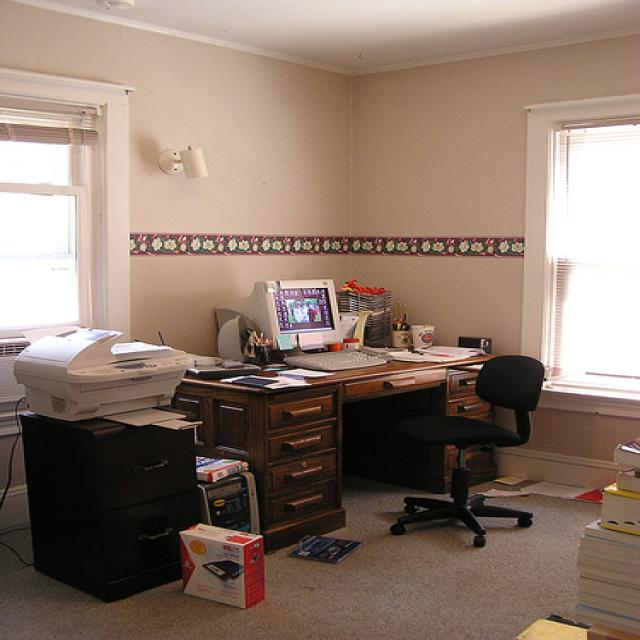chair: (387, 356, 545, 550)
tvmonitor: (213, 278, 344, 361)
